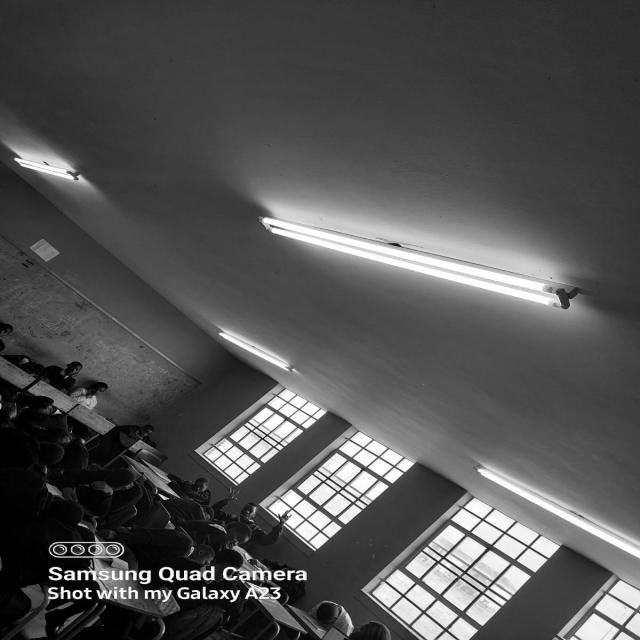light: (257, 215, 579, 310), (465, 459, 640, 562), (218, 330, 294, 372), (13, 157, 80, 181)
